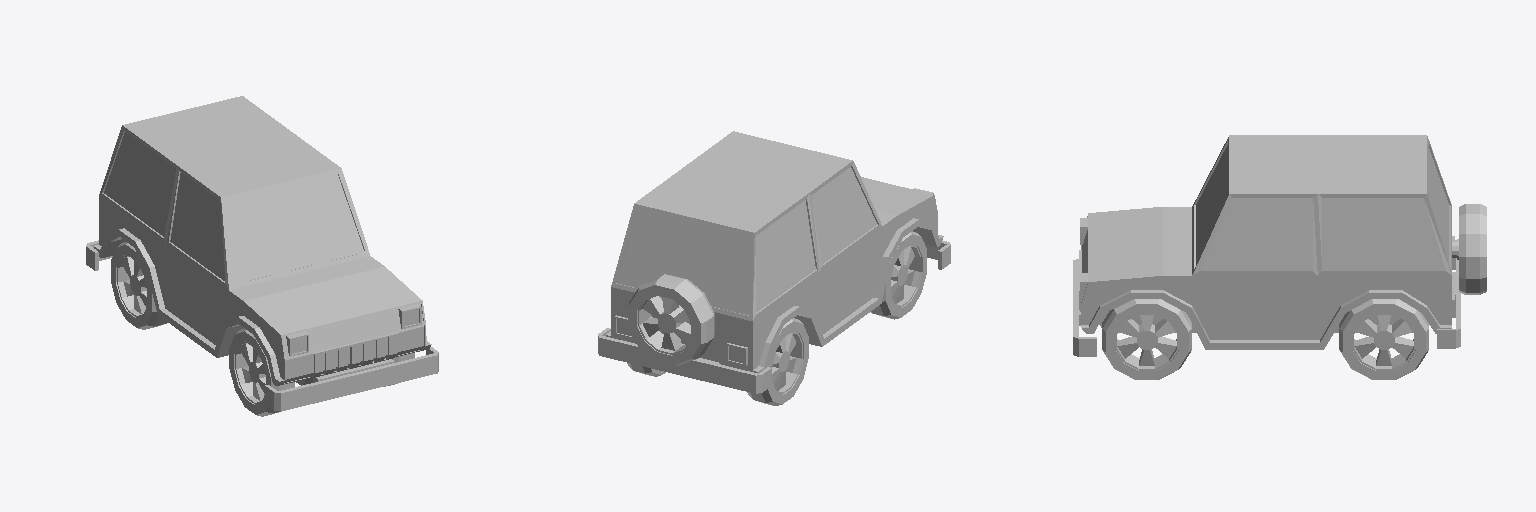
Rendered from jeep_01.obj.
The picture shows the model from 3 angles: view 1: azimuth 30°, elevation 25°; view 2: azimuth 150°, elevation 25°; view 3: azimuth 270°, elevation 25°; orthographic projection.
Visible parts, largest first — view 1: car_Cube; view 2: car_Cube; view 3: car_Cube.
Part boxes in pixels (x1,y1,x2,y2): car_Cube: (86,96,438,416); car_Cube: (598,131,950,405); car_Cube: (1073,135,1486,379).
Bounding box in the file's own units: 1.02 × 1.09 × 2.23.